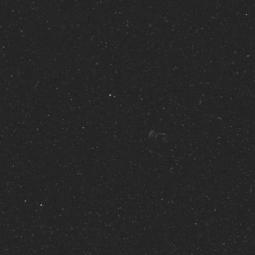debris: (144, 127, 172, 150)
